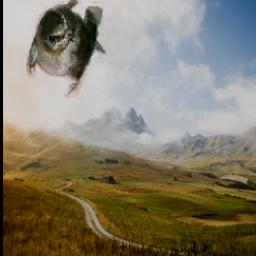Swallow: (27, 0, 108, 98)
